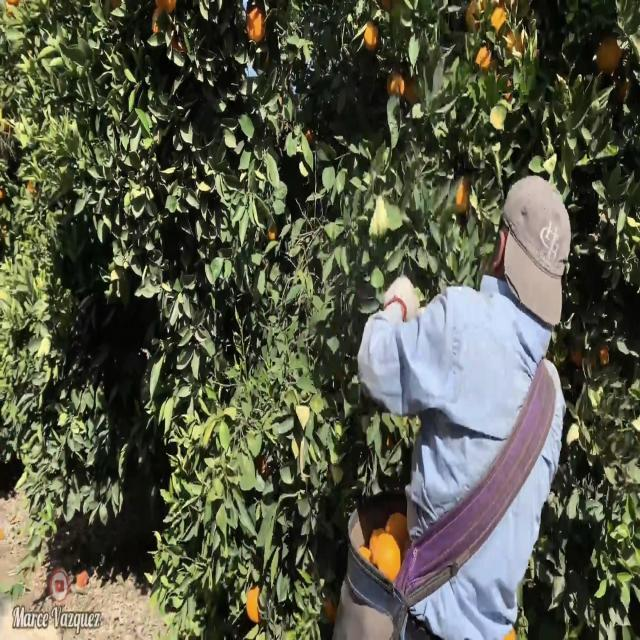Jeruk Sudah Matang: (596, 37, 623, 74), (244, 586, 268, 624), (242, 8, 266, 42), (386, 73, 408, 102), (474, 46, 492, 77), (488, 8, 508, 32), (362, 21, 379, 48)
